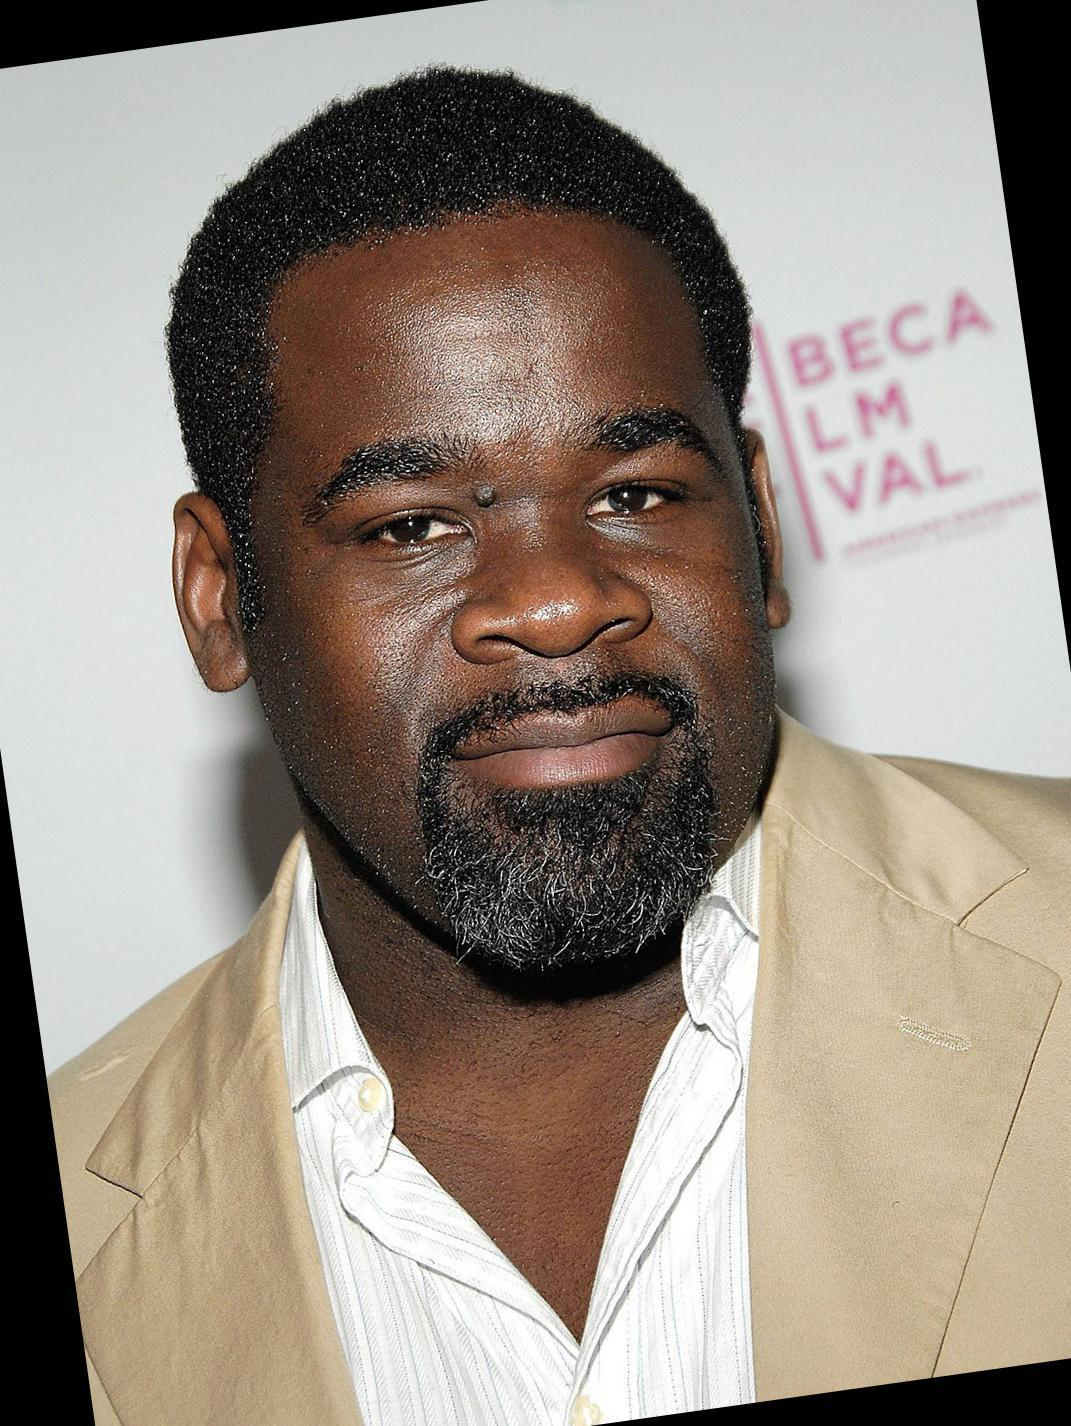Sober: (288, 247, 754, 892)
